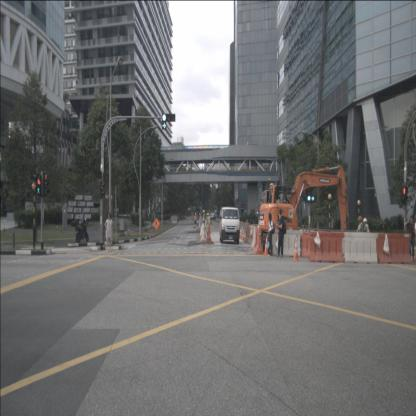barrier: (308, 230, 345, 263), (342, 232, 378, 264), (376, 233, 412, 264), (300, 230, 335, 258), (271, 230, 303, 258), (253, 227, 264, 255), (206, 223, 213, 243), (248, 224, 254, 245), (251, 226, 256, 249), (200, 223, 206, 242), (244, 225, 250, 243)
cone: (263, 235, 270, 256), (294, 240, 300, 262), (242, 229, 245, 241), (239, 229, 242, 239)
